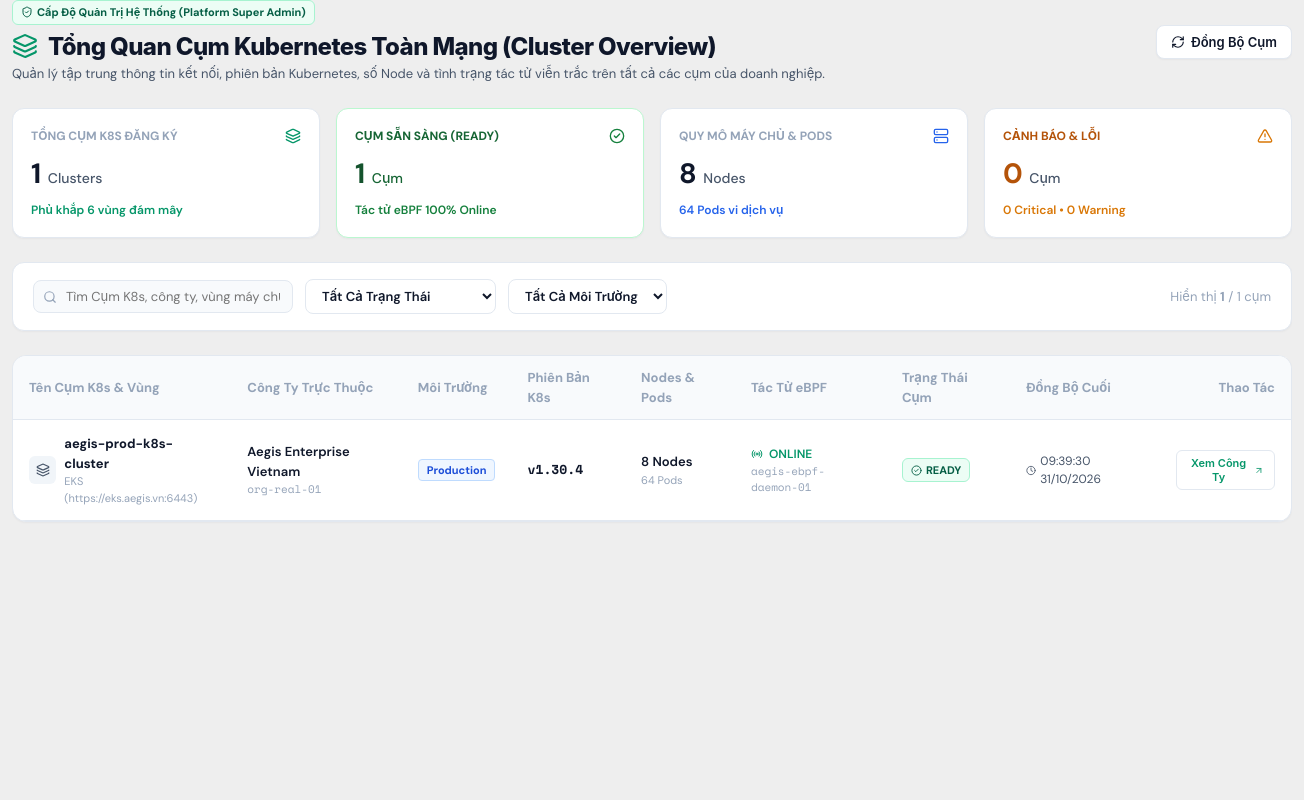
Admin UI, Cluster & Agent Connection Verification Suite › 2. AdminClusterOverviewPage (/admin/clusters) Real API Connection › 2.1. Fetches real clusters from clusterService.getAllClusters and displays live agent status
Expected: the text "aegis-prod-k8s-cluster" is shown, [64,435,173,472]
Expected: the text "Aegis Enterprise Vietnam" is shown, [247,444,350,480]
Click the button "Đồng Bộ Cụm" at (1224, 42), box [1156,25,1292,59]
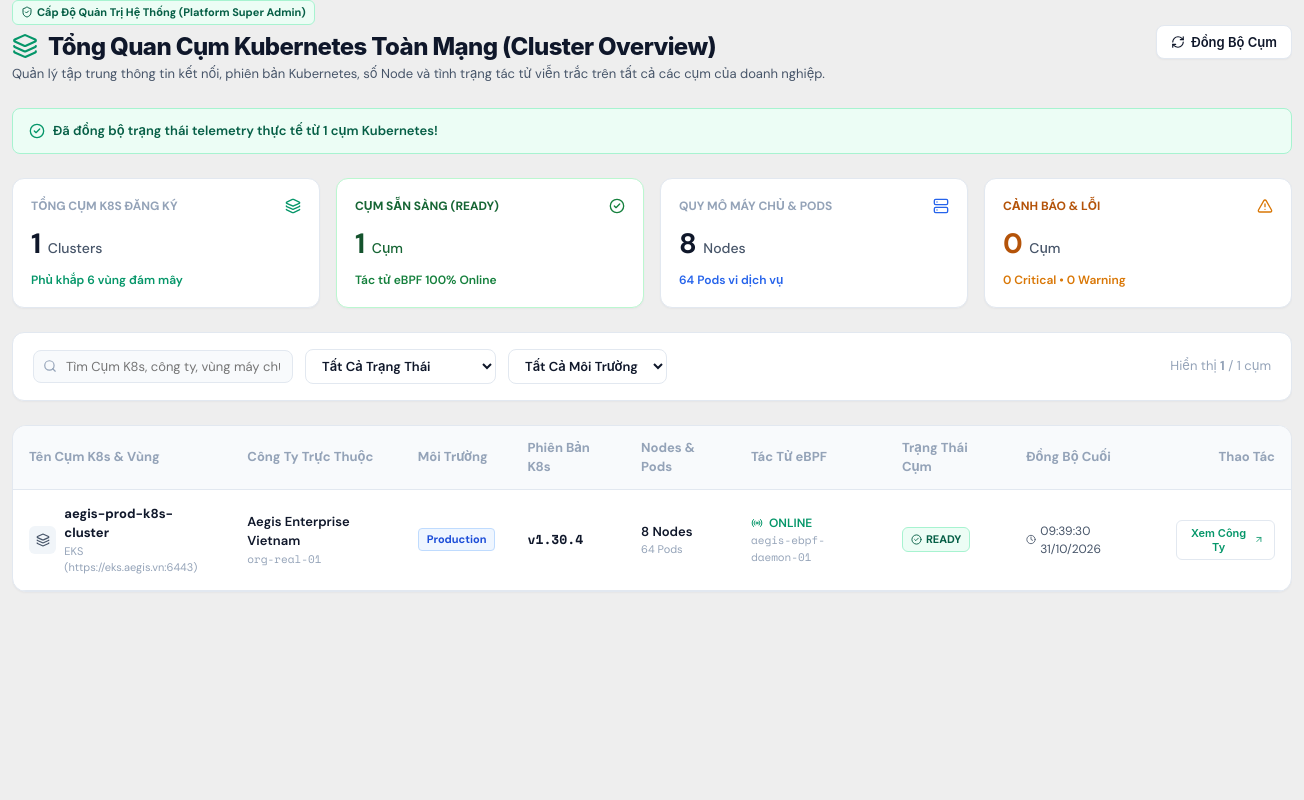
Result: the text "Đã đồng bộ trạng thái telemetry thực tế từ 1 cụm Kubernetes!" is shown at [53,121,438,141]
